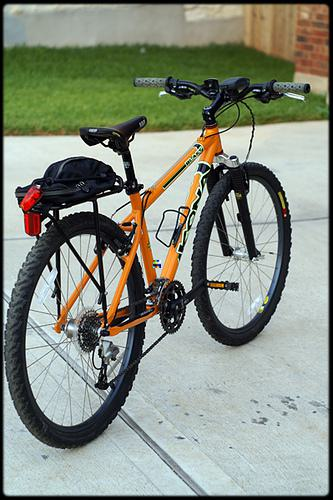car: (2, 76, 313, 452)
